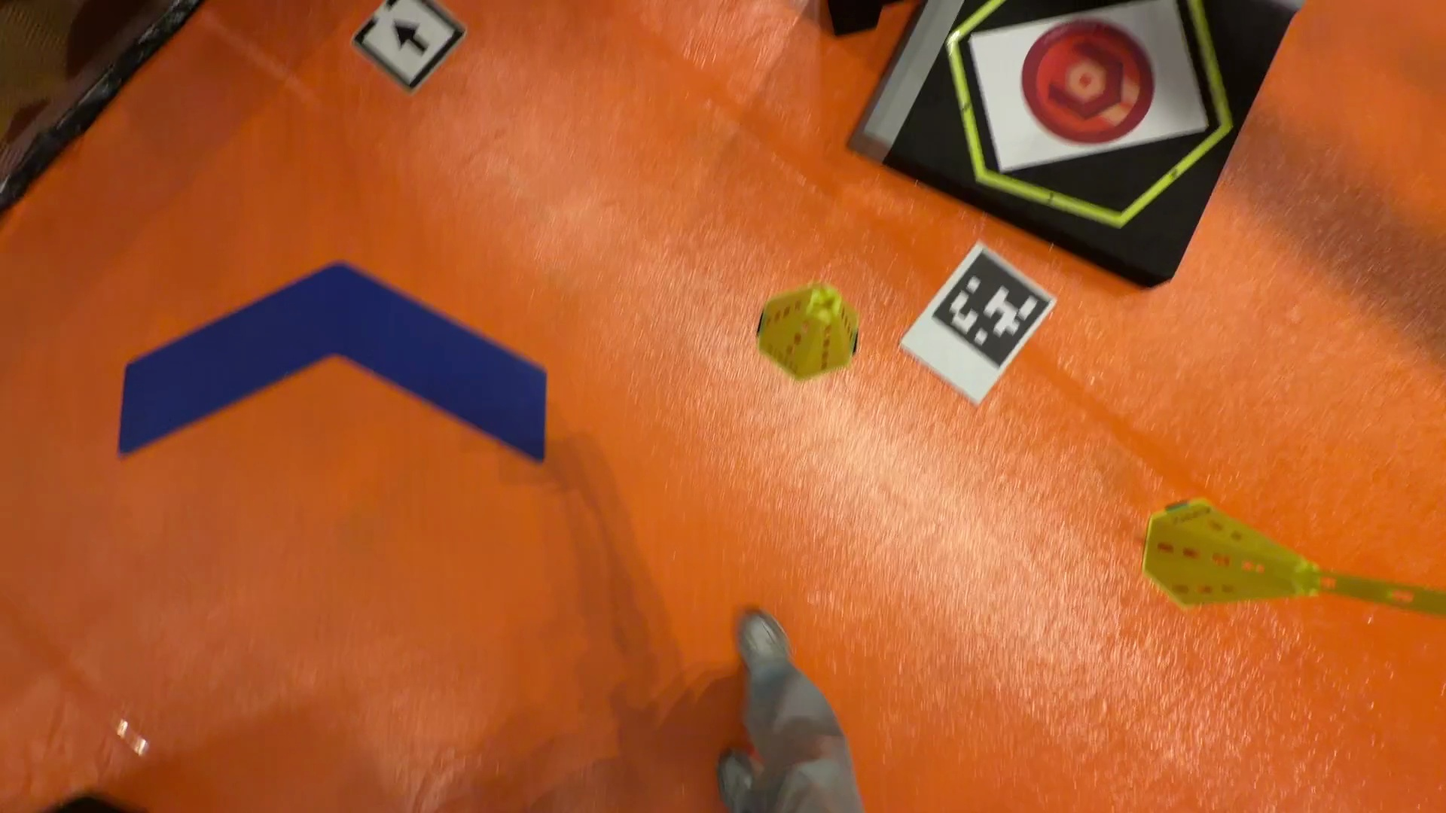landing_pad: (1017, 20, 1158, 151)
